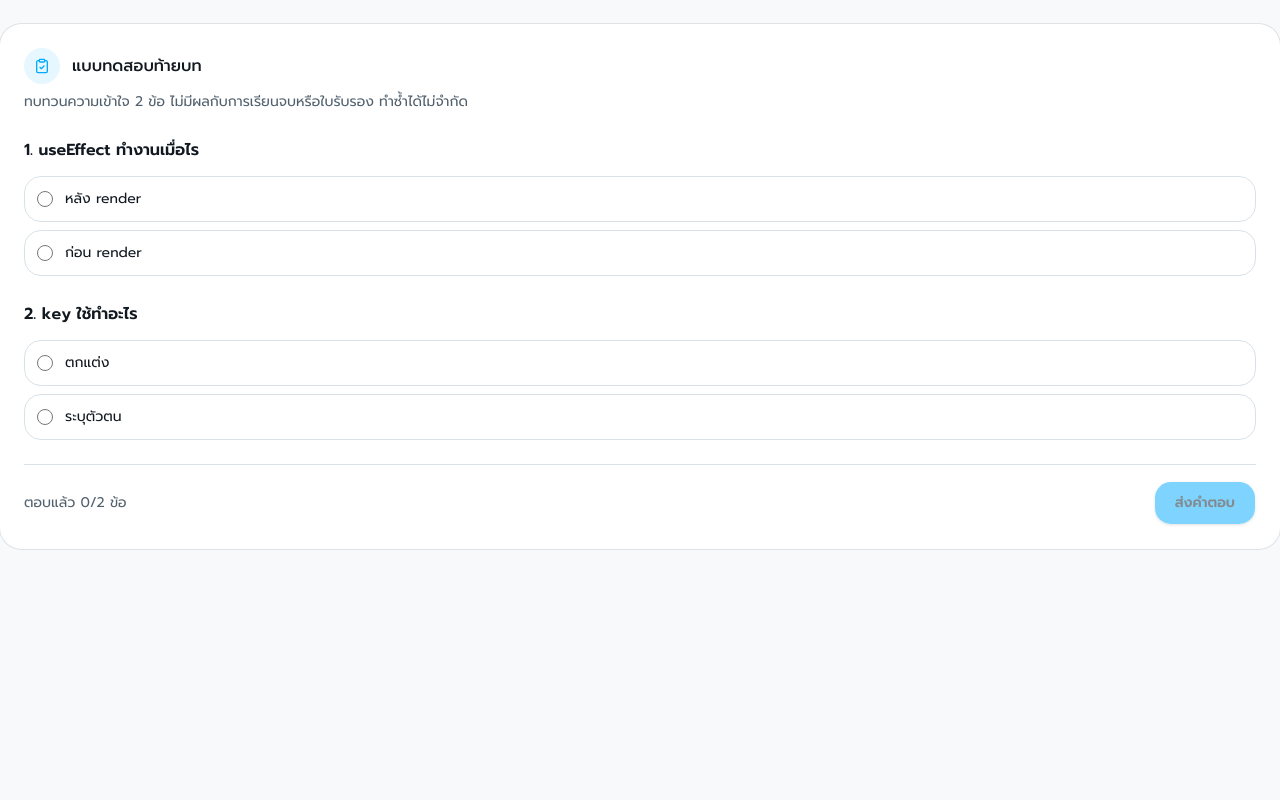
Test: LessonQuiz › submits only once every question is answered and then reveals the result
Check: the button "ส่งคำตอบ" is disabled, box [1154,481,1256,525]
Click the radio button labelled "หลัง render".
click(45, 199)  # box [37,191,53,207]
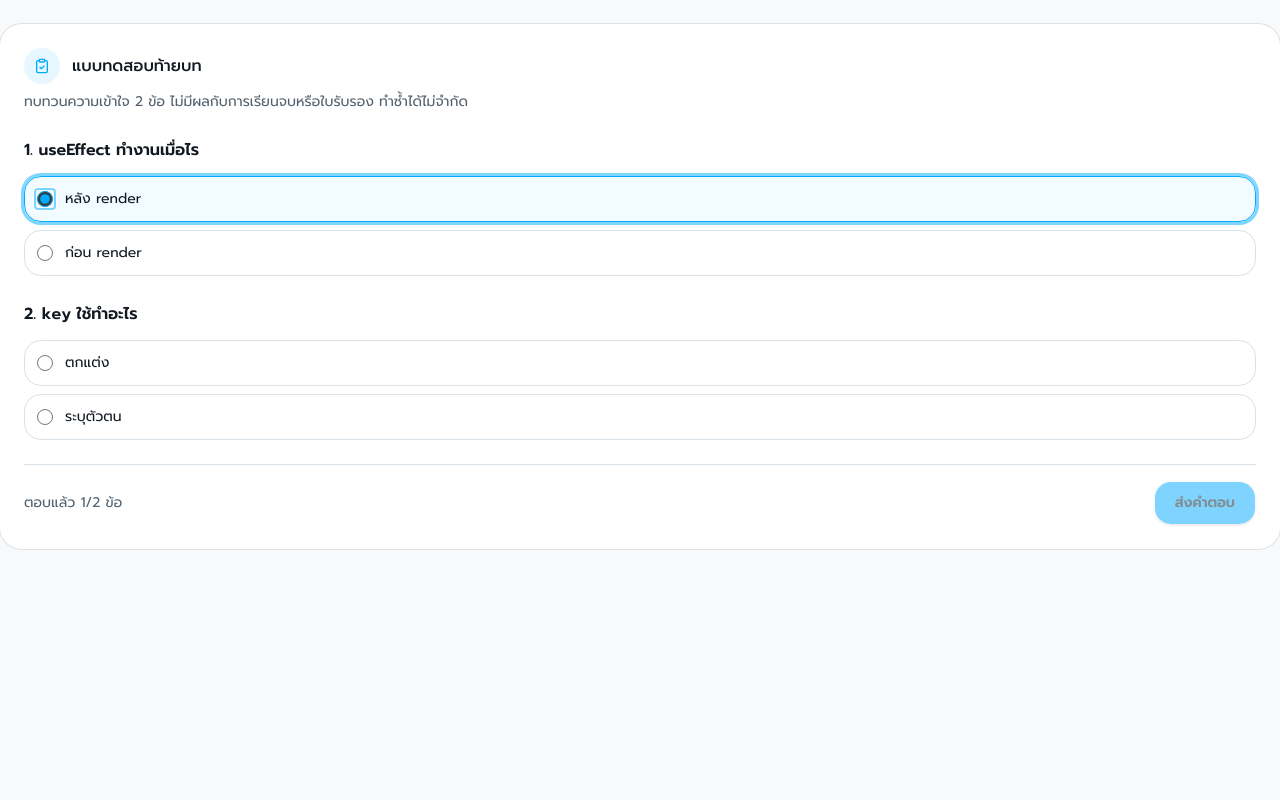
Check: the button "ส่งคำตอบ" is disabled, box [1154,481,1256,525]
Click the radio button labelled "ตกแต่ง".
click(45, 363)  # box [37,355,53,371]
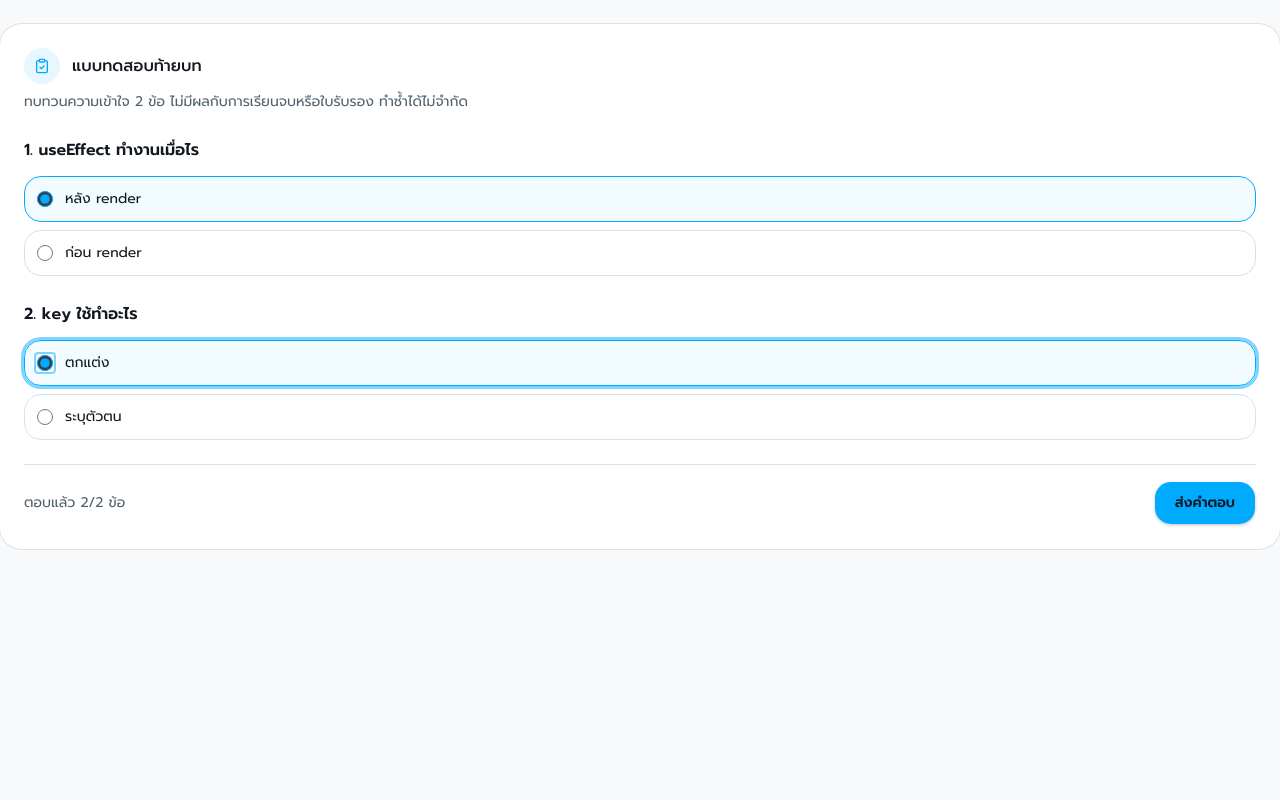
Click the button "ส่งคำตอบ".
click(1205, 503)  # box [1154,481,1256,525]
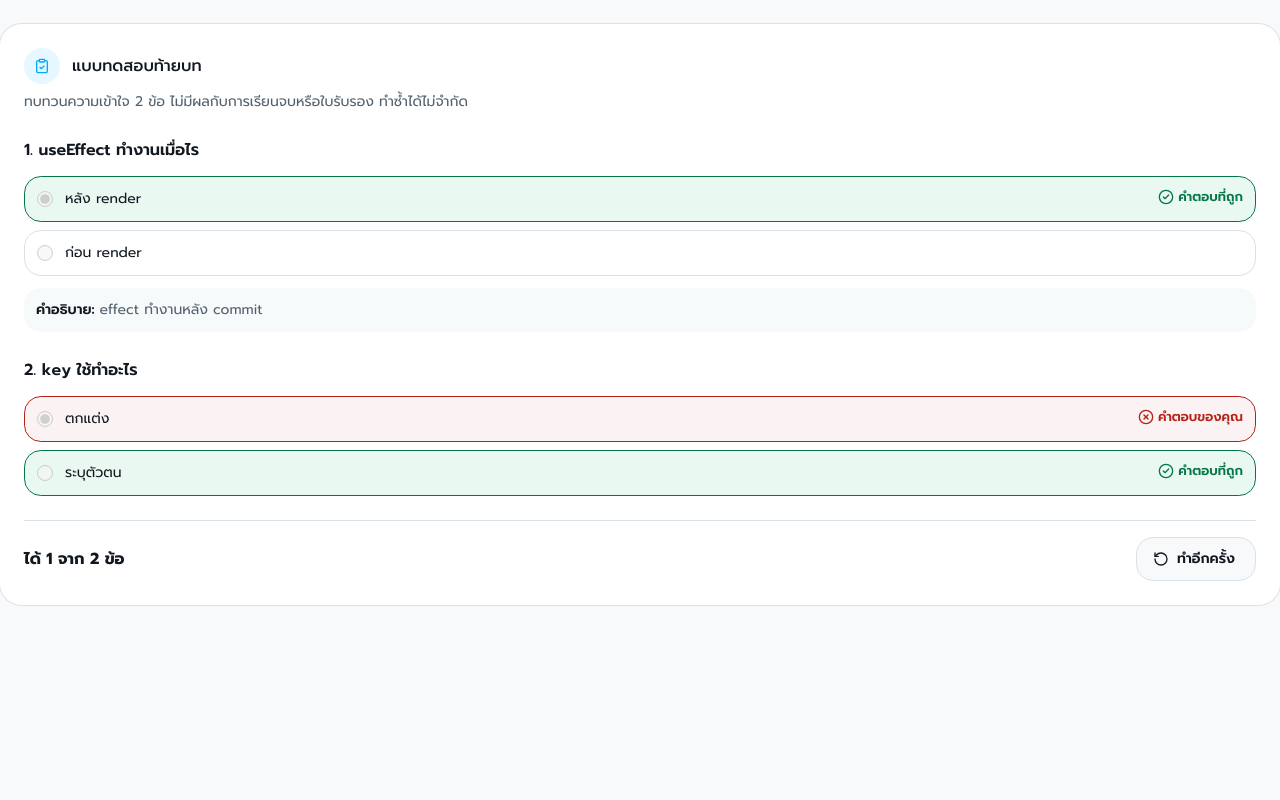
Check: the text "ได้ 1 จาก 2 ข้อ" is shown, box [24,547,124,571]
Check: the text "คำตอบที่ถูก" is shown 2 times, box [1158,187,1243,206]; [1158,461,1243,480]
Check: the text "คำตอบของคุณ" is shown, box [1138,407,1243,426]
Click the button "ทำอีกครั้ง".
click(1196, 559)  # box [1136,537,1256,581]
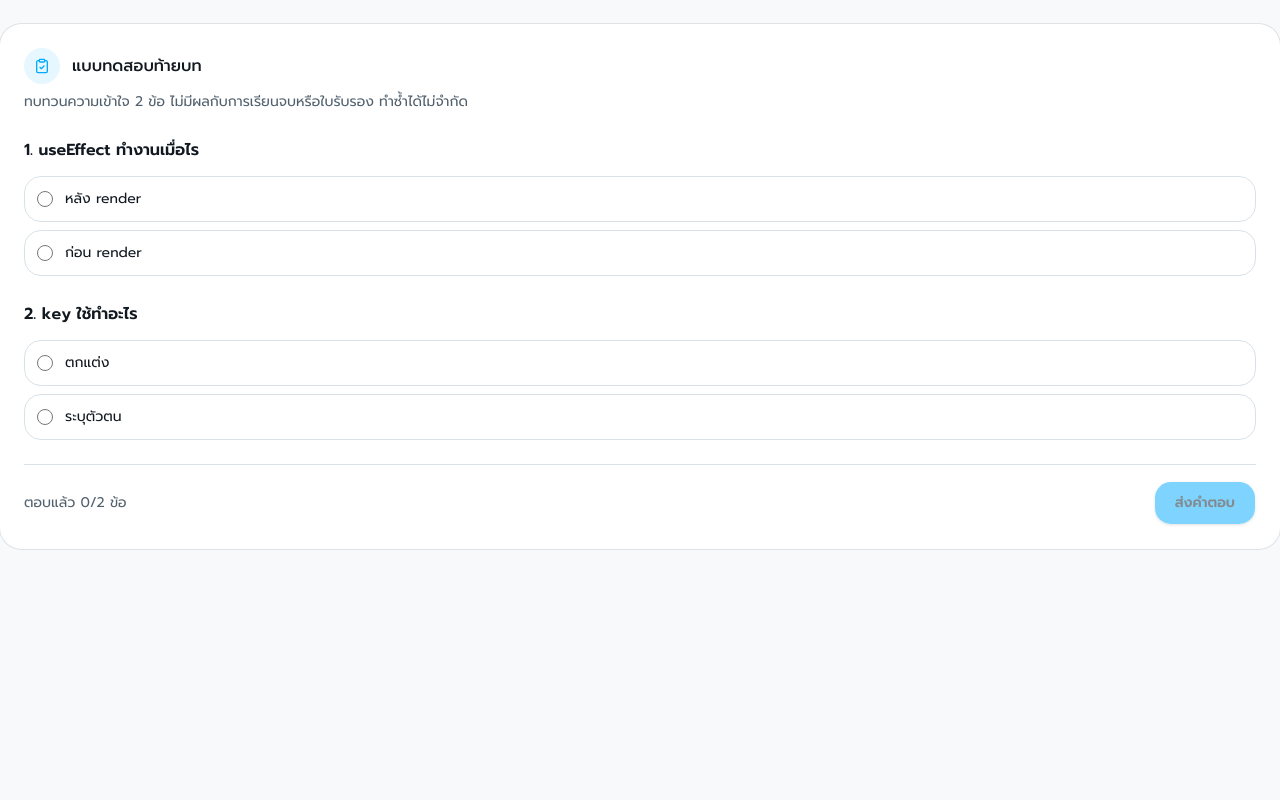
Check: the text "ตอบแล้ว 0/2 ข้อ" is shown, box [24,493,127,513]
Check: the text "คำตอบที่ถูก" is gone
